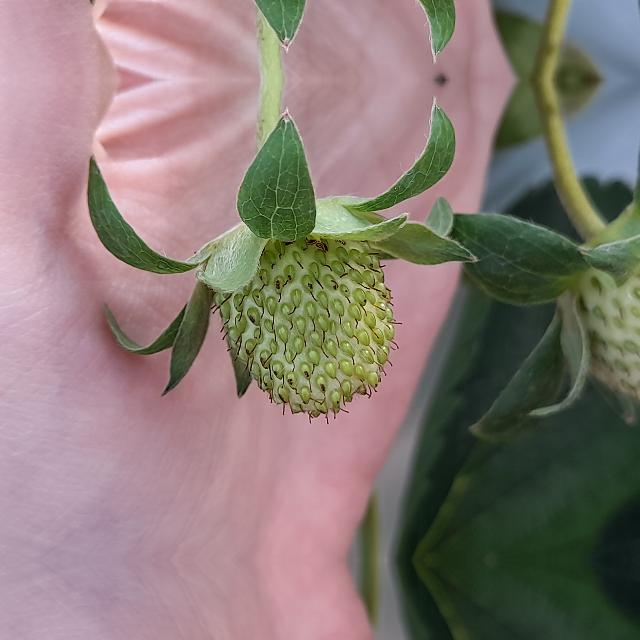Health_25: (212, 222, 402, 424), (555, 236, 639, 400)
